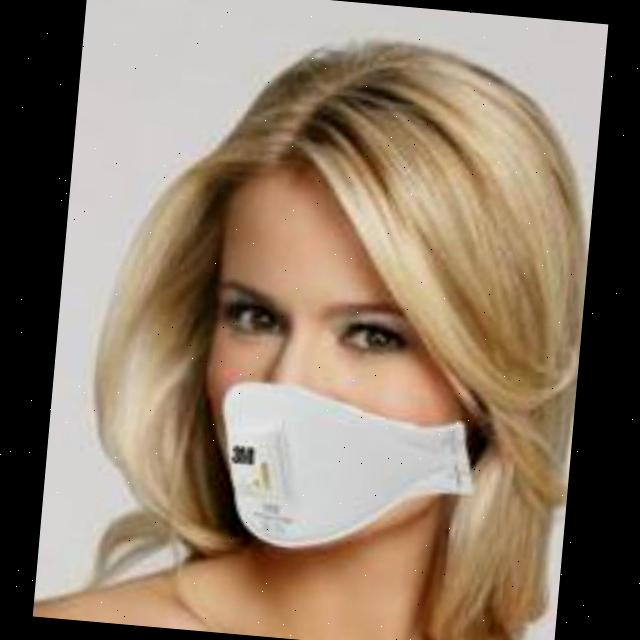suspicion: (160, 68, 556, 581)
